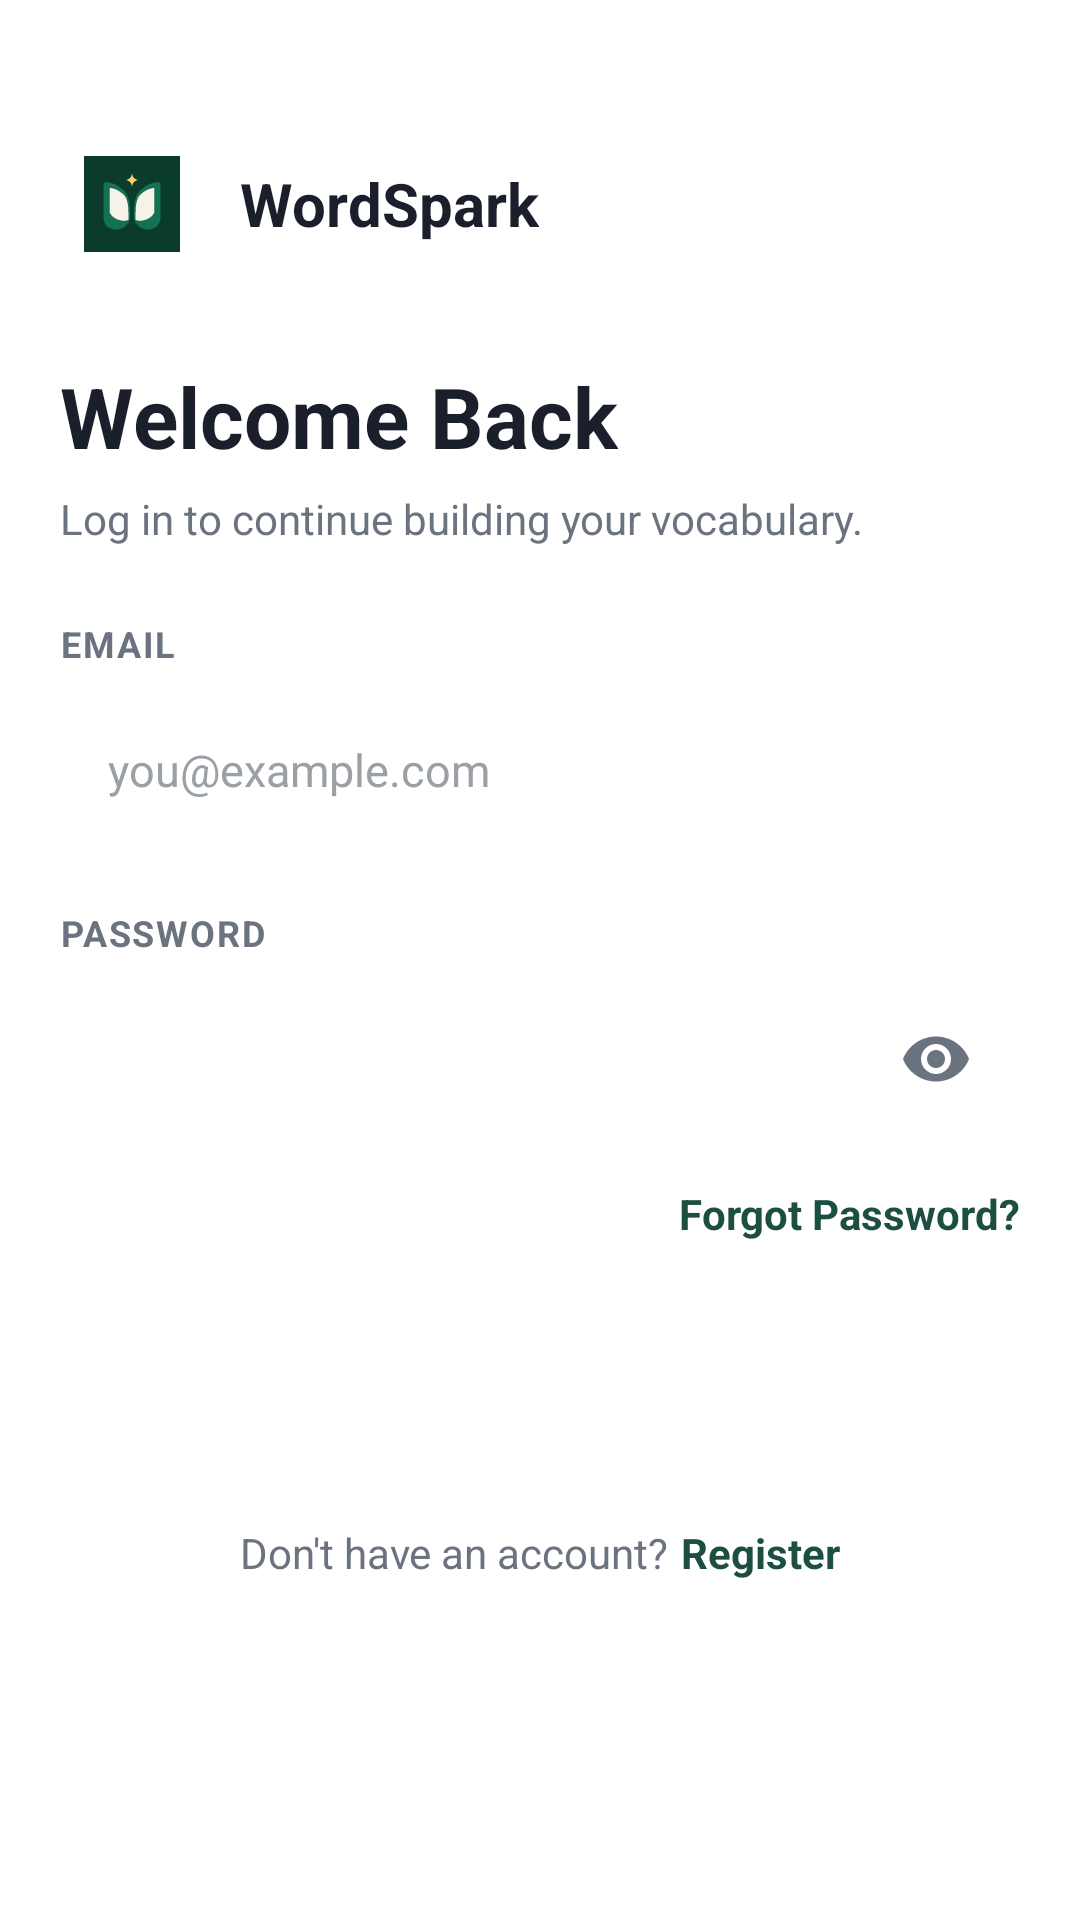

Locate icon controls on the screen. Image size 1080w x 1920h, boxes as (x1, y1, x2, y2).
eye: (903, 1036, 969, 1082)
